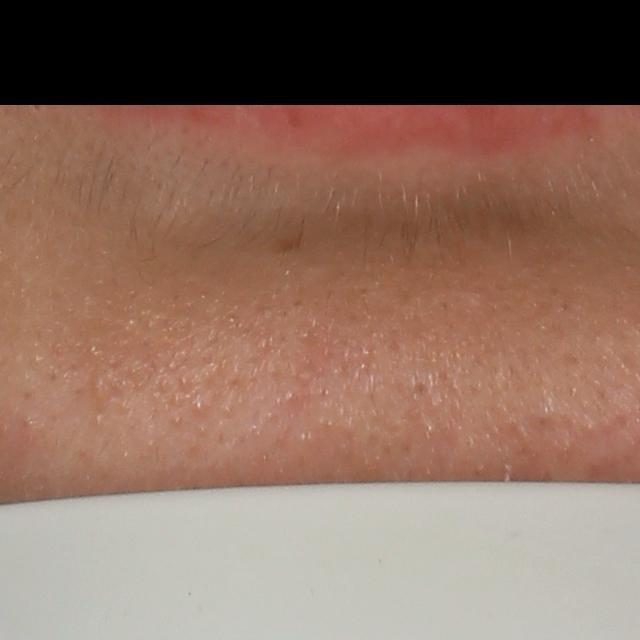comedo: (190, 398, 206, 416)
